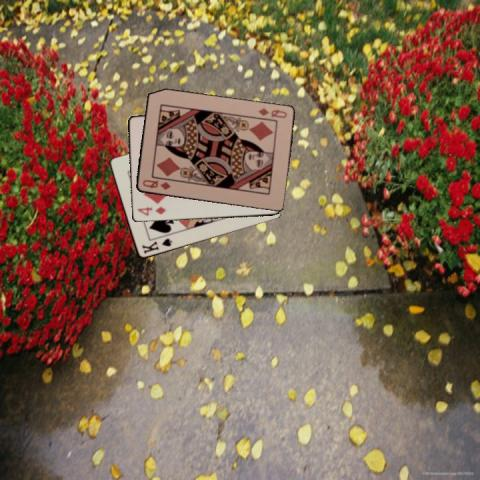4d: (134, 204, 166, 217)
Ks: (139, 236, 173, 256)
Qd: (139, 177, 172, 191), (255, 106, 288, 120)
